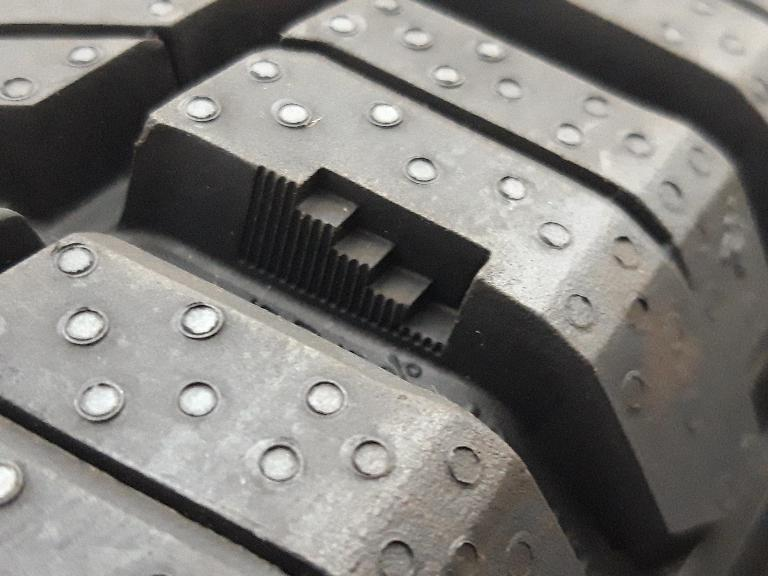temoin:100: (221, 150, 505, 376)
